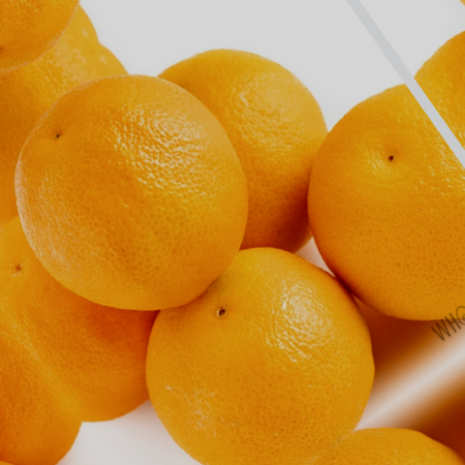orange: (0, 24, 307, 365), (90, 185, 443, 465), (236, 40, 465, 374)
